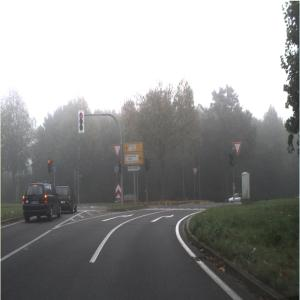give way: (113, 145, 123, 160), (234, 143, 243, 157), (193, 167, 199, 178)
